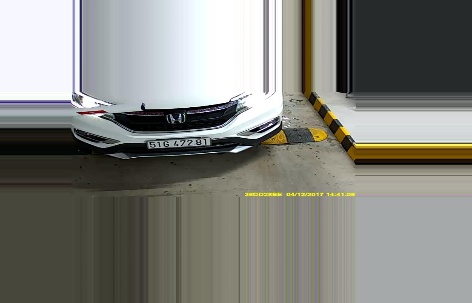plate: (147, 136, 209, 148)
